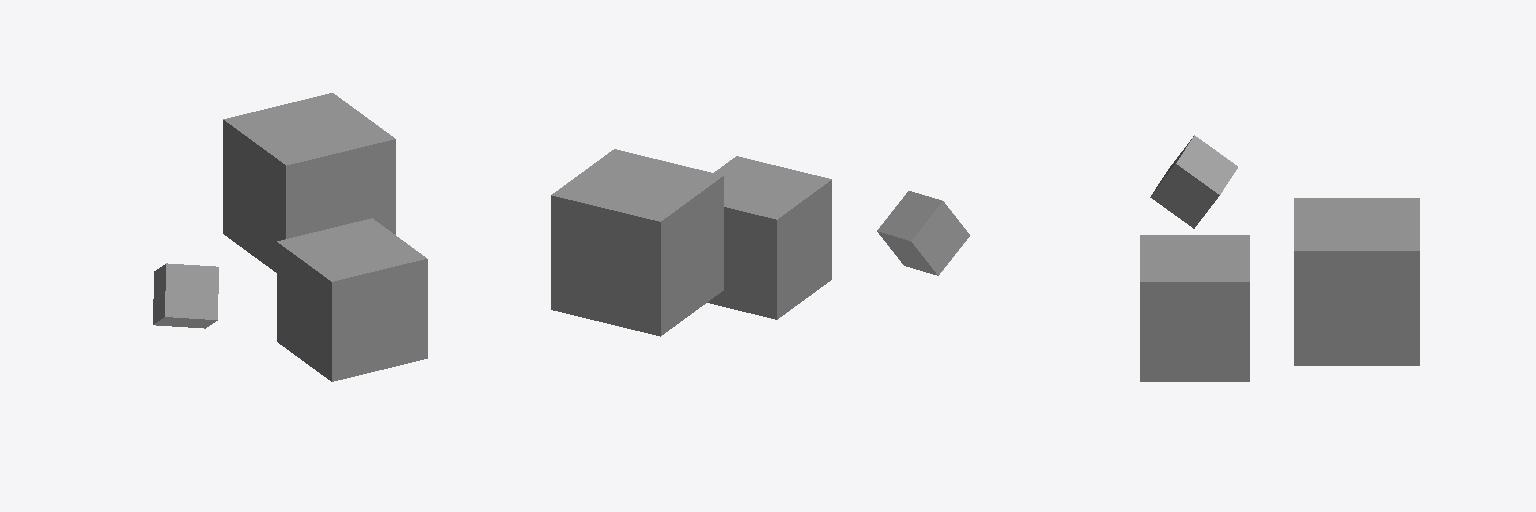
File: 3_simple_cubes.obj
3 views of the same model, side by side, from view 1: azimuth 30°, elevation 25°; view 2: azimuth 150°, elevation 25°; view 3: azimuth 270°, elevation 25° (orthographic).
Visible parts, largest first — view 1: Cube.001, Cube, Cube.002; view 2: Cube.001, Cube, Cube.002; view 3: Cube.001, Cube, Cube.002.
Part boxes in pixels (left/top/right/bottom): Cube.001: left=223, top=93, right=395, bottom=272; Cube: left=277, top=218, right=427, bottom=381; Cube.002: left=153, top=263, right=218, bottom=328; Cube.001: left=551, top=149, right=723, bottom=336; Cube: left=707, top=156, right=831, bottom=319; Cube.002: left=877, top=191, right=969, bottom=275; Cube.001: left=1294, top=198, right=1419, bottom=365; Cube: left=1140, top=235, right=1249, bottom=381; Cube.002: left=1150, top=135, right=1237, bottom=228.
Bounding box in the file's own units: 3.17 × 1.57 × 2.62.